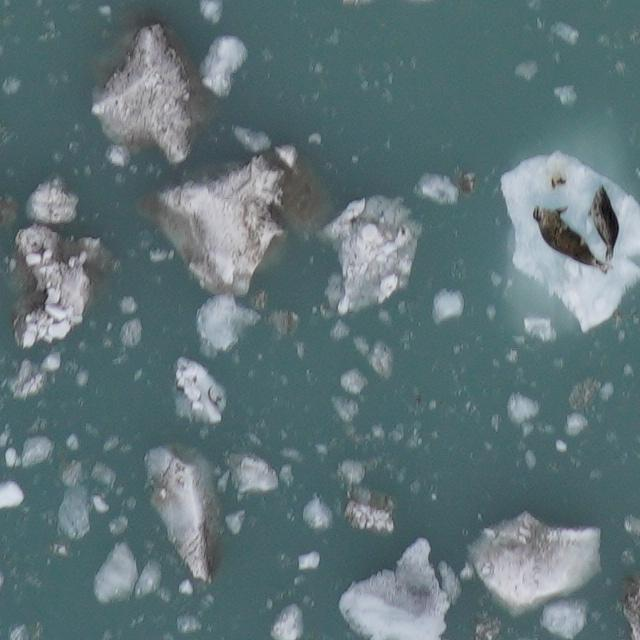seal: (528, 200, 617, 278), (583, 181, 623, 265)
